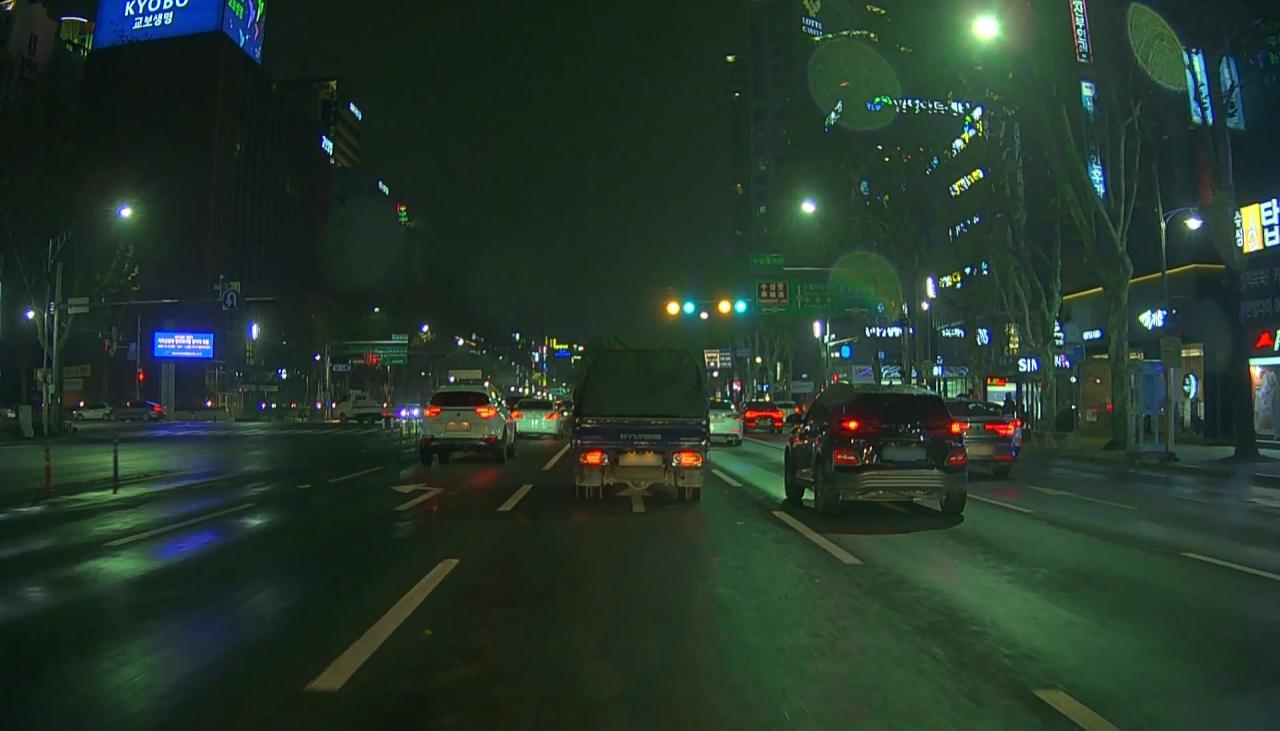Green Light: (734, 300, 748, 314), (683, 301, 696, 315)
Yellow Light: (717, 300, 732, 315), (666, 302, 681, 315)
